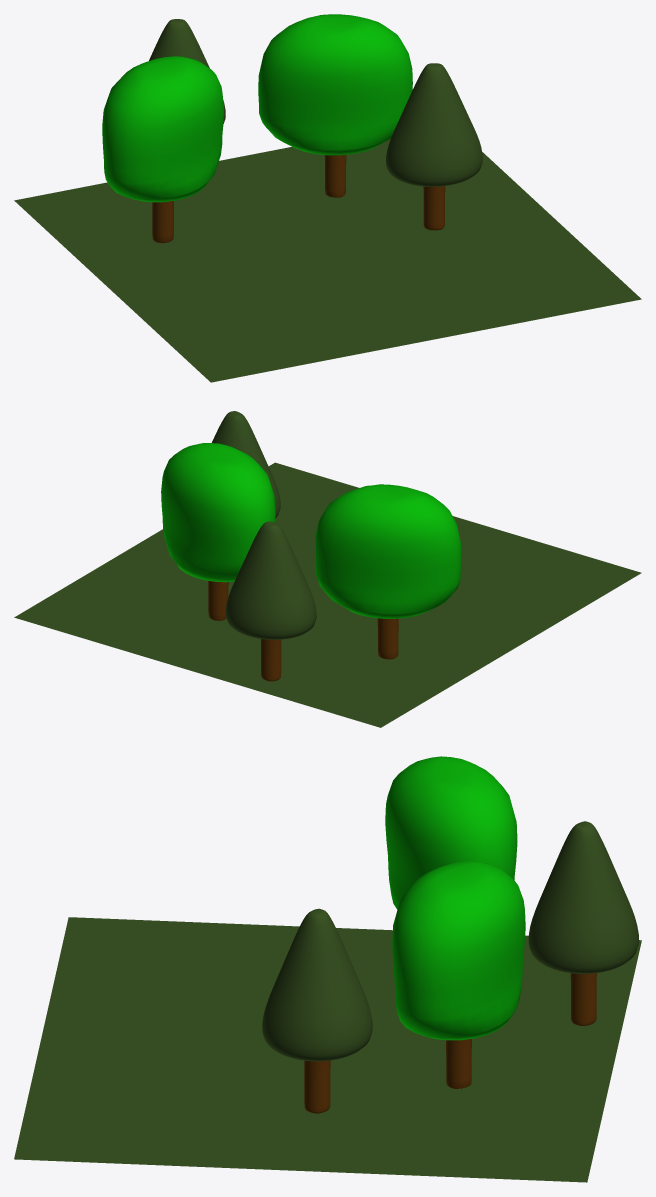
Rendered from lugar.gltf.
3 views of the same model, one above another, from view 1: azimuth 30°, elevation 25°; view 2: azimuth 150°, elevation 25°; view 3: azimuth 270°, elevation 25° (orthographic). The views are drawn at different scales.
Parts seen in each view (by area): view 1: polySurface38 polySurface31, polySurface31 polySurface41, polySurface31 polySurface36, polySurface31 polySurface42, polySurface31 polySurface35, polySurface31 polySurface43, polySurface31 polySurface40, polySurface31 polySurface37; view 2: polySurface38 polySurface31, polySurface31 polySurface36, polySurface31 polySurface41, polySurface31 polySurface35, polySurface31 polySurface42, polySurface31 polySurface39, polySurface31 polySurface37, polySurface31 polySurface40; view 3: polySurface38 polySurface31, polySurface31 polySurface41, polySurface31 polySurface36, polySurface31 polySurface42, polySurface31 polySurface35, polySurface31 polySurface43, polySurface31 polySurface39, polySurface31 polySurface40.
Part boxes in pixels (<box>): polySurface38 polySurface31: <box>14,138,641,382</box>; polySurface31 polySurface41: <box>258,14,412,197</box>; polySurface31 polySurface36: <box>102,56,223,202</box>; polySurface31 polySurface42: <box>386,63,482,186</box>; polySurface31 polySurface35: <box>149,19,225,123</box>; polySurface31 polySurface43: <box>423,186,445,230</box>; polySurface31 polySurface40: <box>324,155,346,197</box>; polySurface31 polySurface37: <box>152,201,173,243</box>; polySurface38 polySurface31: <box>14,462,641,727</box>; polySurface31 polySurface36: <box>315,484,461,618</box>; polySurface31 polySurface41: <box>161,443,275,582</box>; polySurface31 polySurface35: <box>225,521,316,639</box>; polySurface31 polySurface42: <box>212,411,280,517</box>; polySurface31 polySurface39: <box>261,639,281,681</box>; polySurface31 polySurface37: <box>377,618,398,659</box>; polySurface31 polySurface40: <box>208,581,228,620</box>; polySurface38 polySurface31: <box>14,917,641,1182</box>; polySurface31 polySurface41: <box>392,861,525,1088</box>; polySurface31 polySurface36: <box>385,756,517,909</box>; polySurface31 polySurface42: <box>262,908,372,1061</box>; polySurface31 polySurface35: <box>528,821,638,973</box>; polySurface31 polySurface43: <box>304,1060,330,1113</box>; polySurface31 polySurface39: <box>570,973,596,1025</box>; polySurface31 polySurface40: <box>446,1039,471,1088</box>.
Size of the model in its own units: 40.25 by 14.83 by 40.25.
